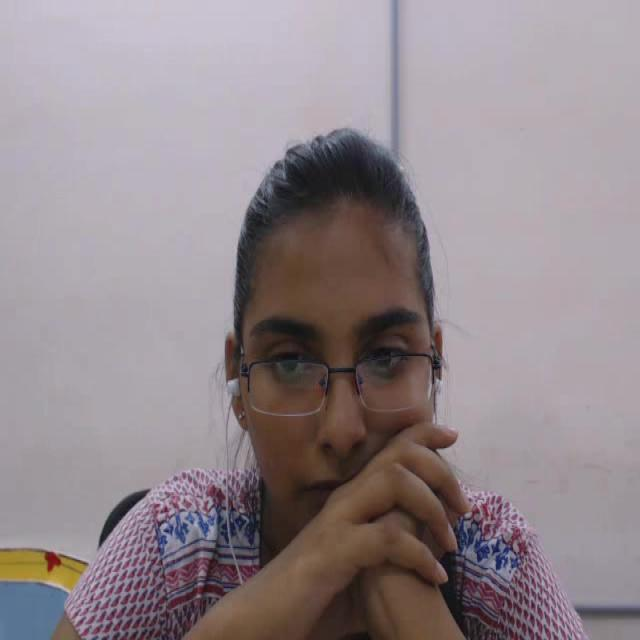Bored: (181, 122, 499, 591)
